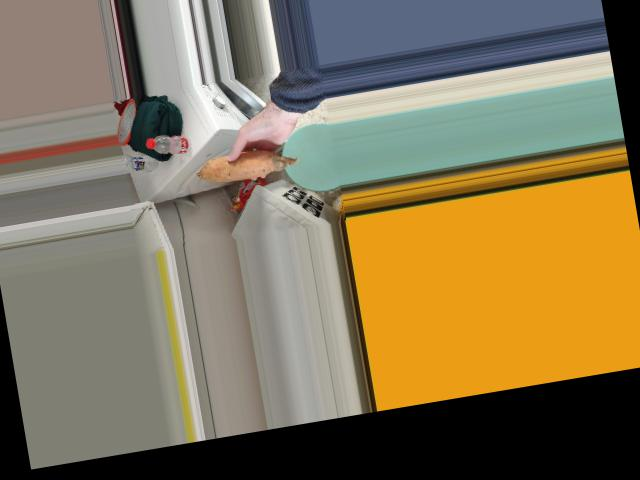sweet_potato: (198, 147, 287, 184)
